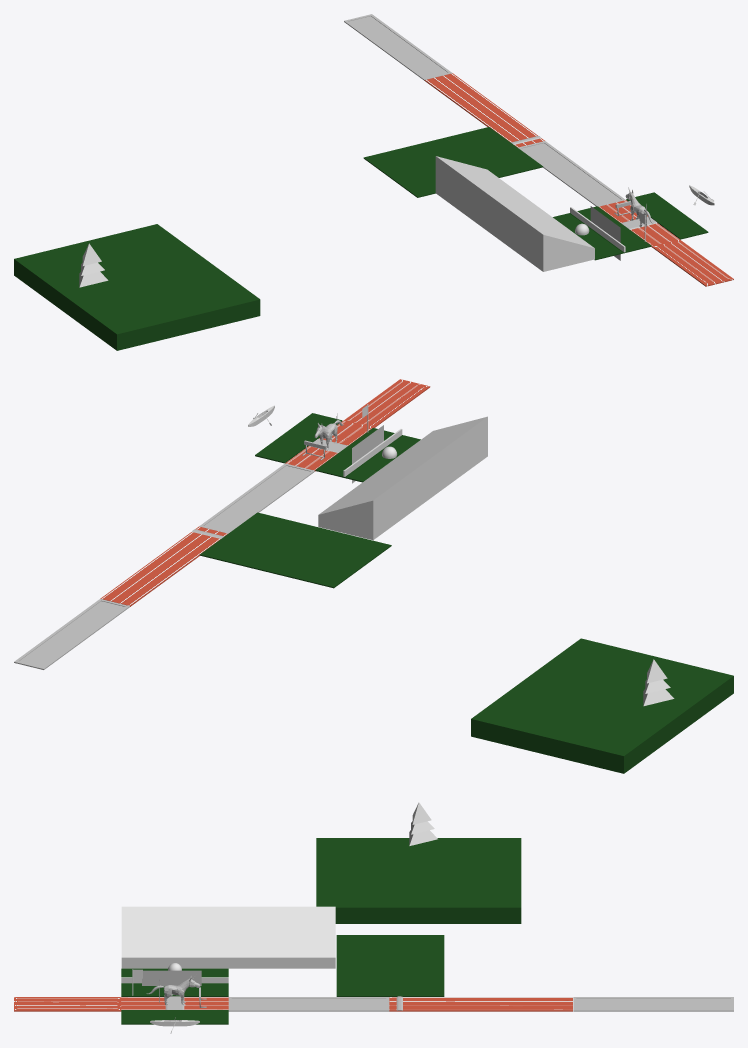
File: kayak.fbx
3 views of the same model, one above another, from view 1: azimuth 30°, elevation 25°; view 2: azimuth 150°, elevation 25°; view 3: azimuth 270°, elevation 25° (orthographic). The views are drawn at different scales.
Parts seen in each view (by area): view 1: Cube.003, Cube.002, Pitch.010, Pitch.007, Pitch.008, Pitch.005, Pitch.006, Pitch.001, Pitch, Pitch.003, Pitch.002, Cone; view 2: Cube.003, Cube.002, Pitch.010, Pitch.007, Pitch.008, Pitch.005, Pitch.006, Pitch.001, Pitch, Pitch.003, Pitch.002, Cone; view 3: Cube.003, Cube.002, Pitch.010, Pitch.007, Pitch.005, Pitch.008, Pitch.006, Pitch.001, Pitch, Pitch.002, frame_00, Cone (+2 smaller).
Part boxes in pixels (x1,y1,x2,y2): Cube.003: (14,224,260,350); Cube.002: (435,156,594,271); Pitch.010: (363,127,543,197); Pitch.007: (424,73,544,147); Pitch.008: (344,14,452,80); Pitch.005: (518,141,625,206); Pitch.006: (652,239,733,286); Pitch.001: (626,192,708,239); Pitch: (599,200,679,246); Pitch.003: (553,213,623,260); Pitch.002: (569,206,651,253); Cone: (79,243,108,287); Cube.003: (471,638,733,773); Cube.002: (318,416,487,540); Pitch.010: (199,512,391,588); Pitch.007: (100,526,227,606); Pitch.008: (14,599,129,669); Pitch.005: (199,463,314,533); Pitch.006: (343,379,430,428); Pitch.001: (255,413,342,463); Pitch: (285,421,371,471); Pitch.003: (345,435,420,482); Pitch.002: (315,428,402,478); Cone: (643,659,674,706); Cube.003: (316,838,521,923); Cube.002: (121,906,335,968); Pitch.010: (336,935,444,996); Pitch.007: (389,997,572,1011); Pitch.005: (228,997,389,1011); Pitch.008: (573,997,733,1011); Pitch.006: (14,997,121,1011); Pitch.001: (121,1010,228,1024); Pitch: (121,997,228,1009); Pitch.002: (121,983,228,996); frame_00: (142,970,201,985); Cone: (409,802,437,845).
Size of the model in its own units: 11205 by 2202 by 13409.
